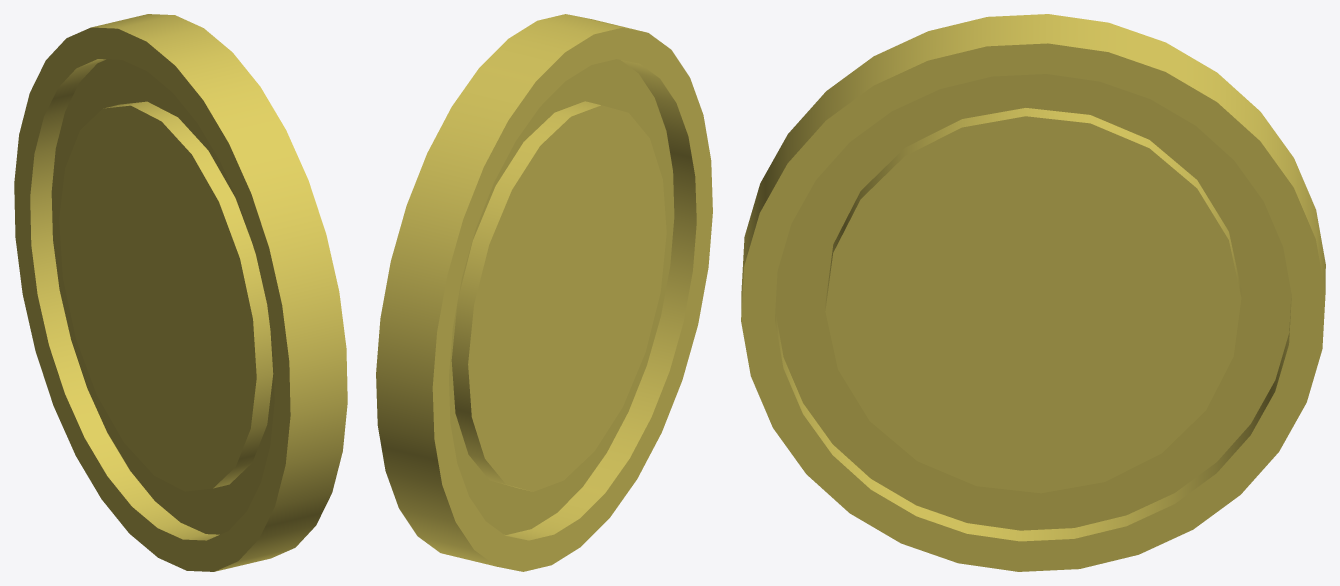
Rendered from GameCoin.fbx.
3 renders of one model, left to right at view 1: azimuth 30°, elevation 25°; view 2: azimuth 150°, elevation 25°; view 3: azimuth 270°, elevation 25°, orthographic. The views are drawn at different scales.
Parts seen in each view (by area): view 1: GameCoin1:pPipe1, GameCoin1:pCylinder4, GameCoin1:pCylinder3; view 2: GameCoin1:pPipe1, GameCoin1:pCylinder4, GameCoin1:pCylinder3; view 3: GameCoin1:pCylinder4, GameCoin1:pPipe1, GameCoin1:pCylinder3.
Boxes of the visible parts, left/top/right/bottom form: GameCoin1:pPipe1: left=14, top=14, right=347, bottom=571; GameCoin1:pCylinder4: left=59, top=101, right=273, bottom=491; GameCoin1:pCylinder3: left=51, top=59, right=274, bottom=534; GameCoin1:pPipe1: left=376, top=14, right=712, bottom=571; GameCoin1:pCylinder4: left=451, top=101, right=666, bottom=491; GameCoin1:pCylinder3: left=449, top=59, right=674, bottom=534; GameCoin1:pCylinder4: left=825, top=108, right=1241, bottom=493; GameCoin1:pPipe1: left=741, top=14, right=1325, bottom=571; GameCoin1:pCylinder3: left=775, top=74, right=1291, bottom=530.
Size of the model in its own units: 0.8639 by 6.92 by 6.92.
